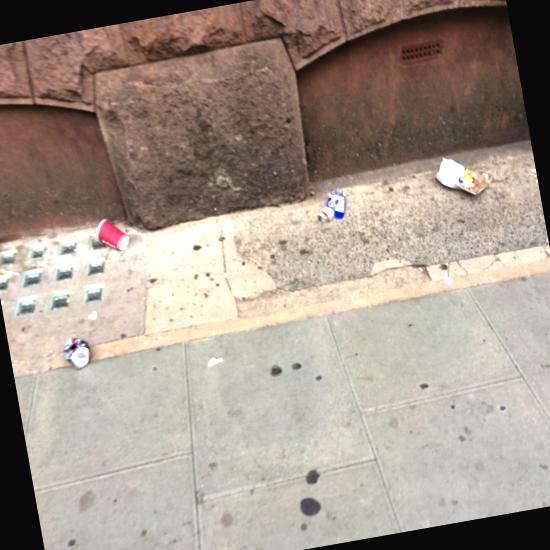Egg carton: (210, 288, 295, 395), (269, 151, 351, 253)
Polypropylene bag: (0, 10, 293, 236)
